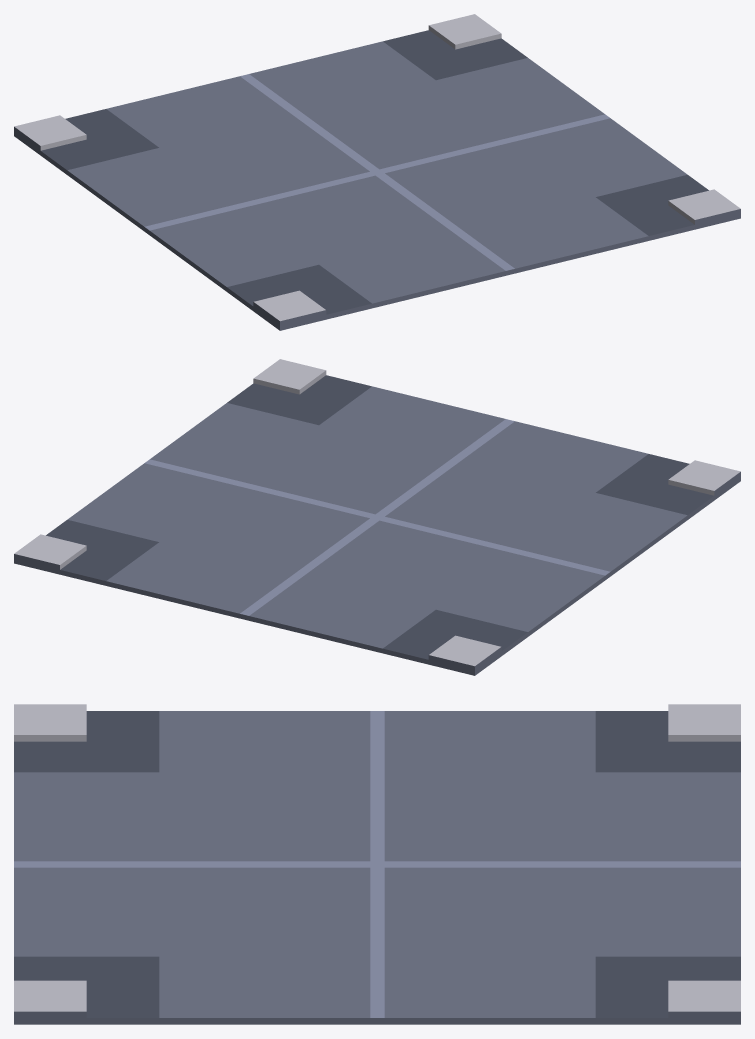
File: road_crossroadLine.glb
3 views of the same model, one above another, from view 1: azimuth 30°, elevation 25°; view 2: azimuth 150°, elevation 25°; view 3: azimuth 270°, elevation 25° (orthographic). The views are drawn at different scales.
Parts seen in each view (by area): view 1: road_crossroadLine_888c84, road_crossroadLine_cf625d, road_crossroadLine_6f255b, road_crossroadLine_67a20d; view 2: road_crossroadLine_888c84, road_crossroadLine_cf625d, road_crossroadLine_6f255b, road_crossroadLine_67a20d; view 3: road_crossroadLine_888c84, road_crossroadLine_cf625d, road_crossroadLine_6f255b, road_crossroadLine_67a20d.
Boxes of the visible parts, box(x1,y1,x2,y2) form: road_crossroadLine_888c84: box(14, 41, 740, 330); road_crossroadLine_cf625d: box(41, 30, 708, 314); road_crossroadLine_6f255b: box(14, 14, 740, 321); road_crossroadLine_67a20d: box(144, 74, 610, 270); road_crossroadLine_888c84: box(14, 386, 740, 675); road_crossroadLine_cf625d: box(46, 375, 713, 659); road_crossroadLine_6f255b: box(14, 359, 740, 666); road_crossroadLine_67a20d: box(144, 419, 610, 615); road_crossroadLine_888c84: box(14, 711, 740, 1024); road_crossroadLine_cf625d: box(14, 711, 740, 1017); road_crossroadLine_6f255b: box(14, 704, 740, 1011); road_crossroadLine_67a20d: box(14, 711, 740, 1017).
Size of the model in its own units: 1 by 0.02 by 1.
